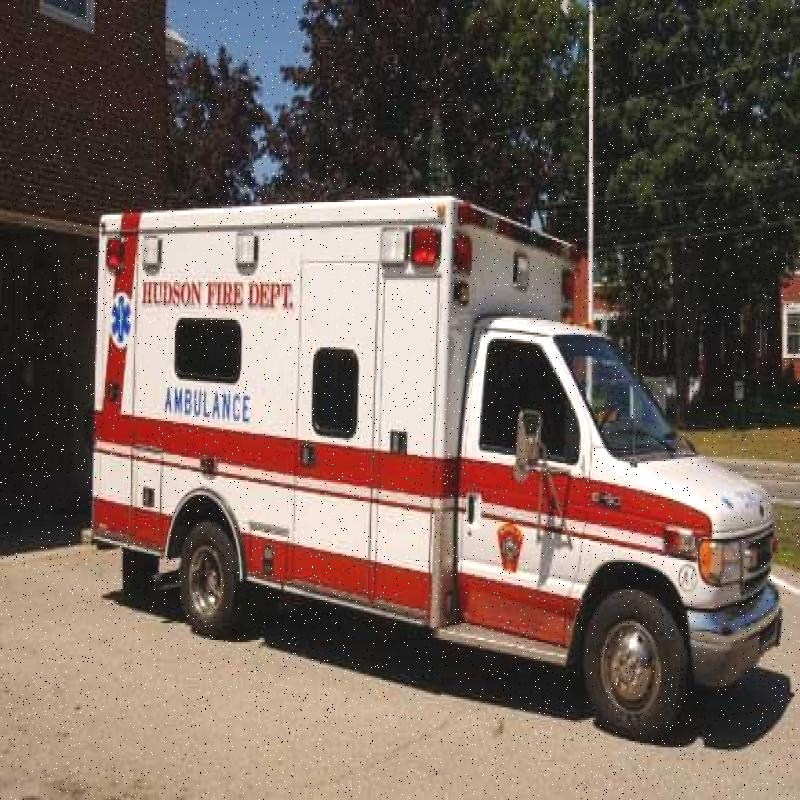AmbulanceSiren: (99, 225, 167, 289), (378, 216, 438, 282)
